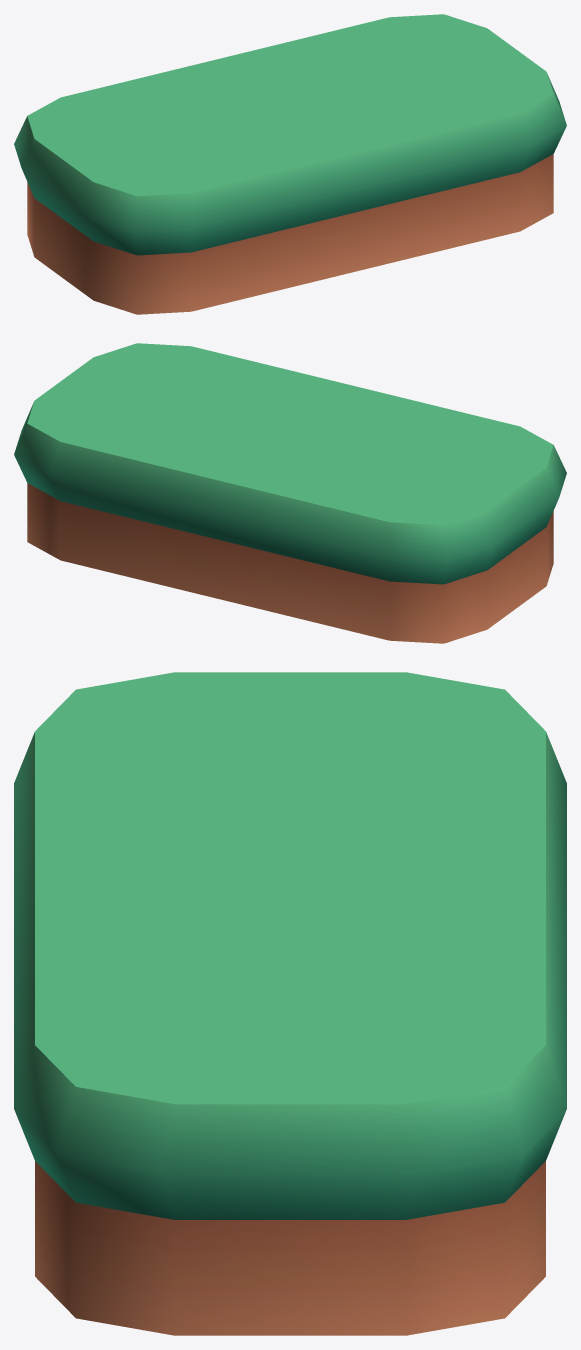
Rendered from kenney-platformer-block-grass-low-long.glb.
3 views of the same model, one above another, from view 1: azimuth 30°, elevation 25°; view 2: azimuth 150°, elevation 25°; view 3: azimuth 270°, elevation 25° (orthographic). The views are drawn at different scales.
Parts seen in each view (by area): view 1: block-grass-low-long; view 2: block-grass-low-long; view 3: block-grass-low-long.
Boxes of the visible parts, box(x1,y1,x2,y2) form: block-grass-low-long: box(14, 14, 566, 314); block-grass-low-long: box(14, 343, 566, 643); block-grass-low-long: box(14, 672, 566, 1335).
Bounding box in the file's own units: 2.08 × 0.5 × 1.08.
1 material, 1 textured.
